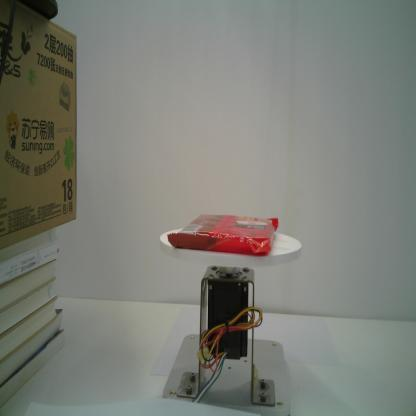Dessert: (167, 214, 279, 257)
